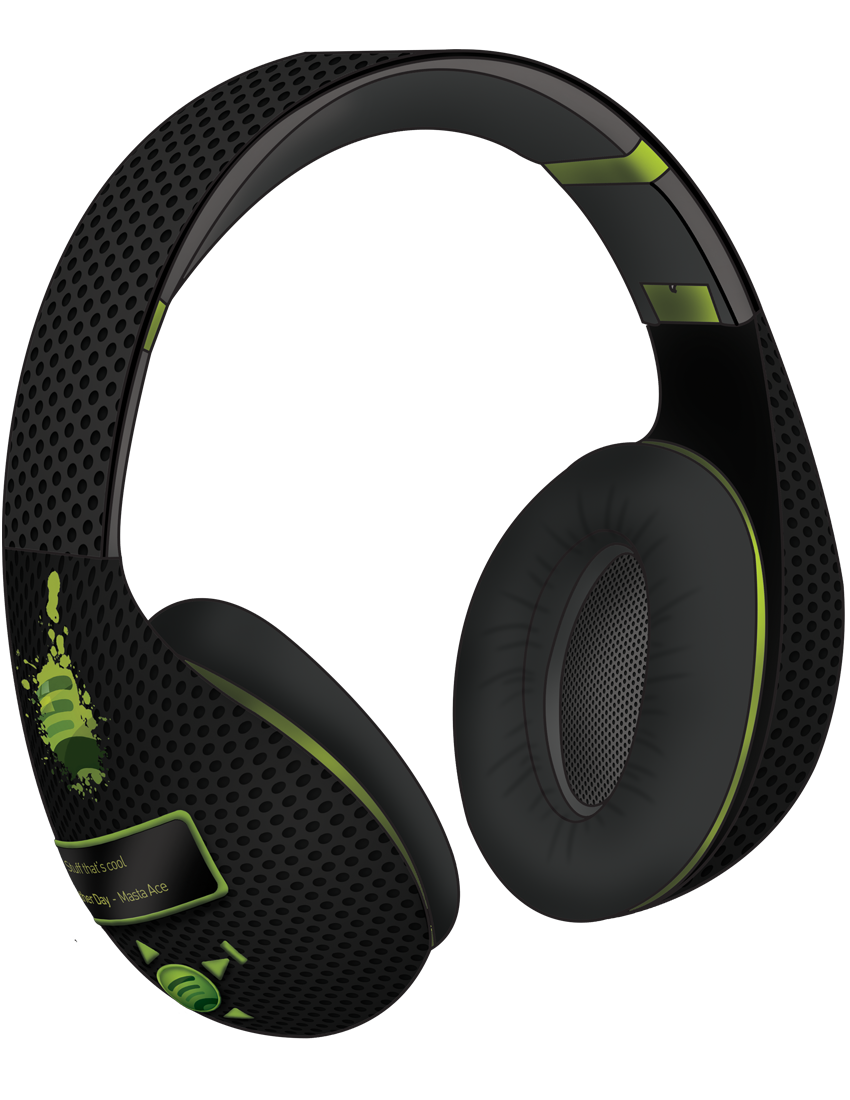headphone: (7, 36, 850, 1044)
